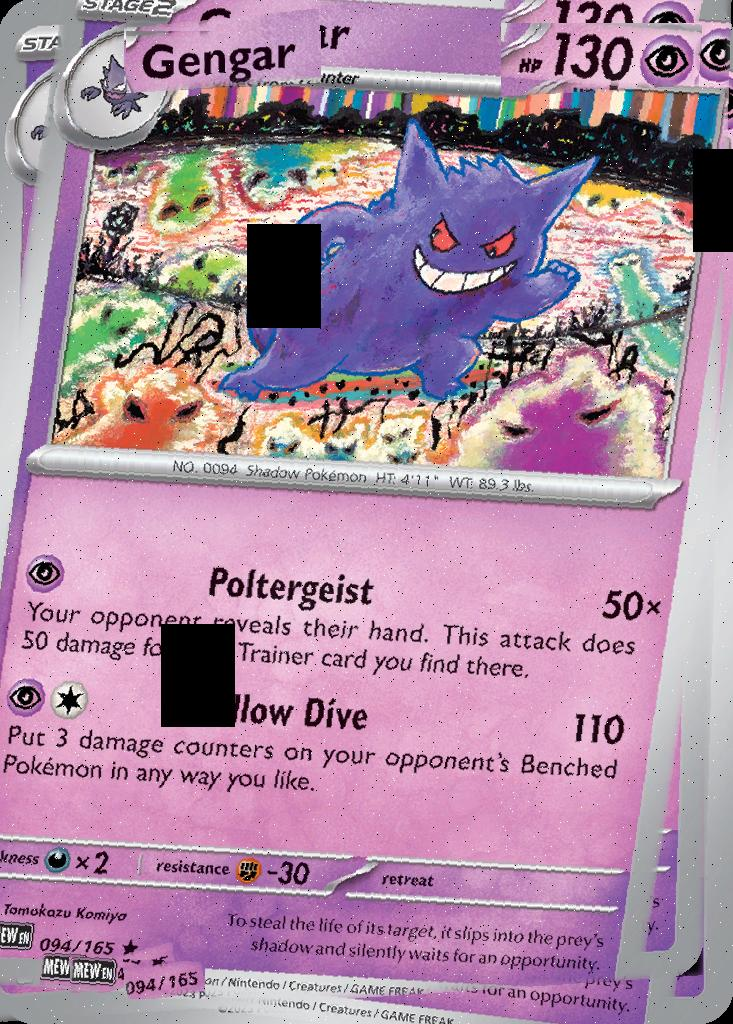card: (0, 0, 733, 1024)
hp: (501, 24, 703, 98)
name: (126, 31, 321, 93)
set num: (123, 959, 205, 999)
set symbol: (69, 958, 118, 994)
